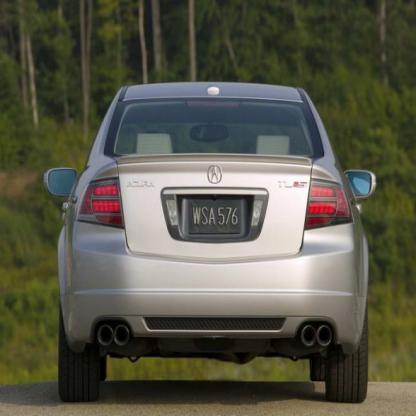Vehicle: (41, 80, 376, 409)
